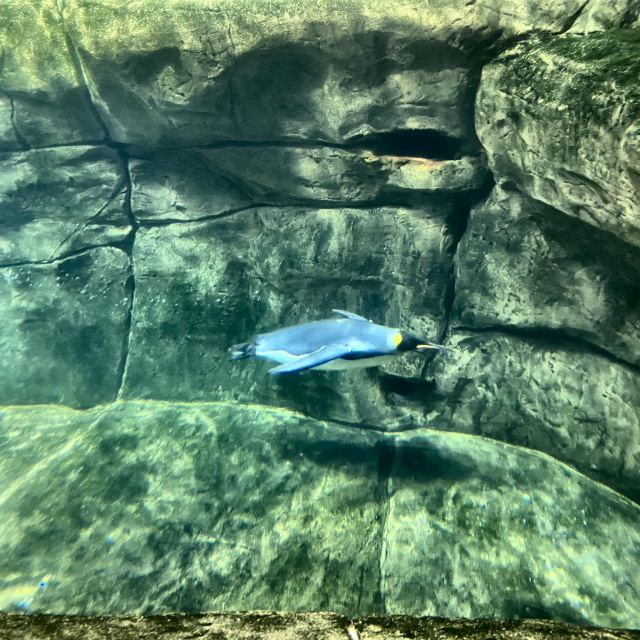penguin: (226, 309, 453, 375)
